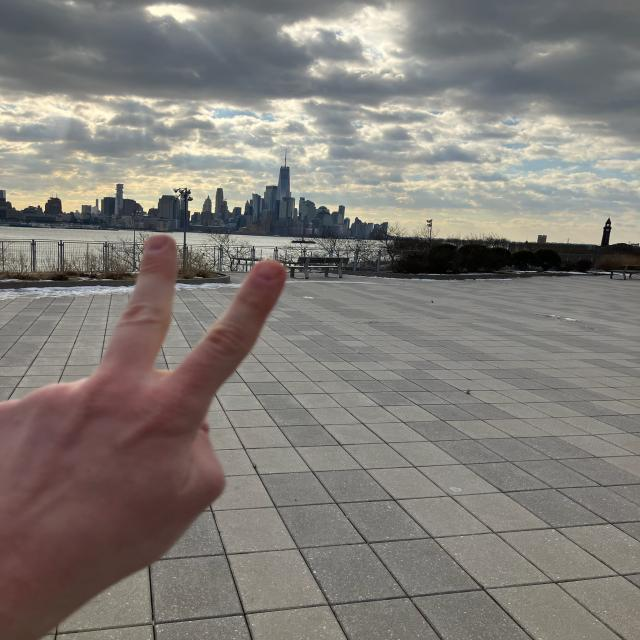WTC: (277, 150, 292, 198)
